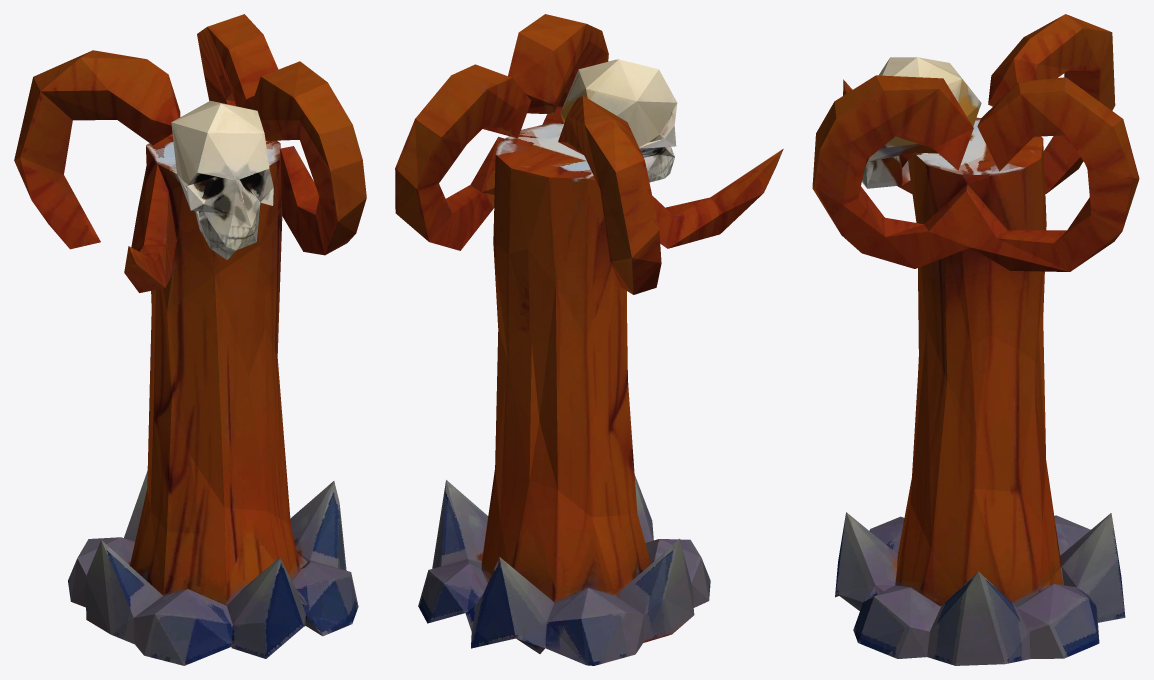
File: skull_altar_pedestal.glb
The picture shows the model from 3 angles, left to right: view 1: azimuth 30°, elevation 25°; view 2: azimuth 150°, elevation 25°; view 3: azimuth 270°, elevation 25°; orthographic projection. The views are drawn at different scales.
Bounding box in the file's own units: 1.05 × 1.98 × 1.06.
1 material, 1 textured.
